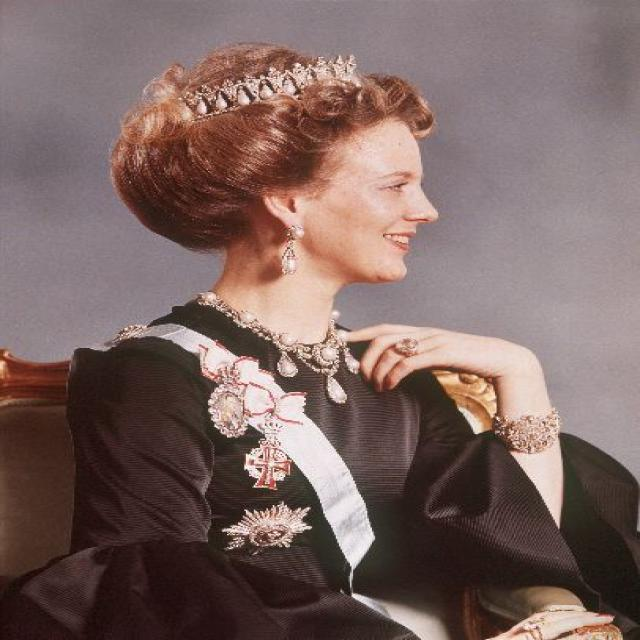Earring: (273, 213, 307, 279)
